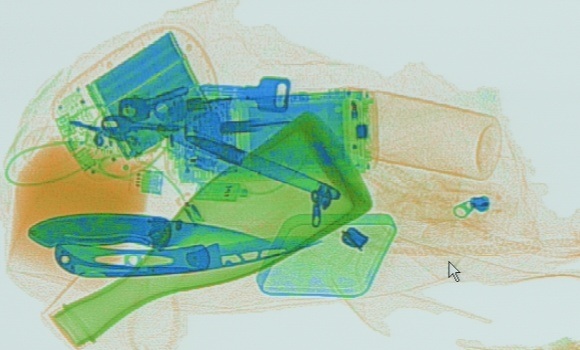knife: (53, 231, 324, 281), (28, 209, 275, 252)
powerbank: (49, 24, 224, 179)
